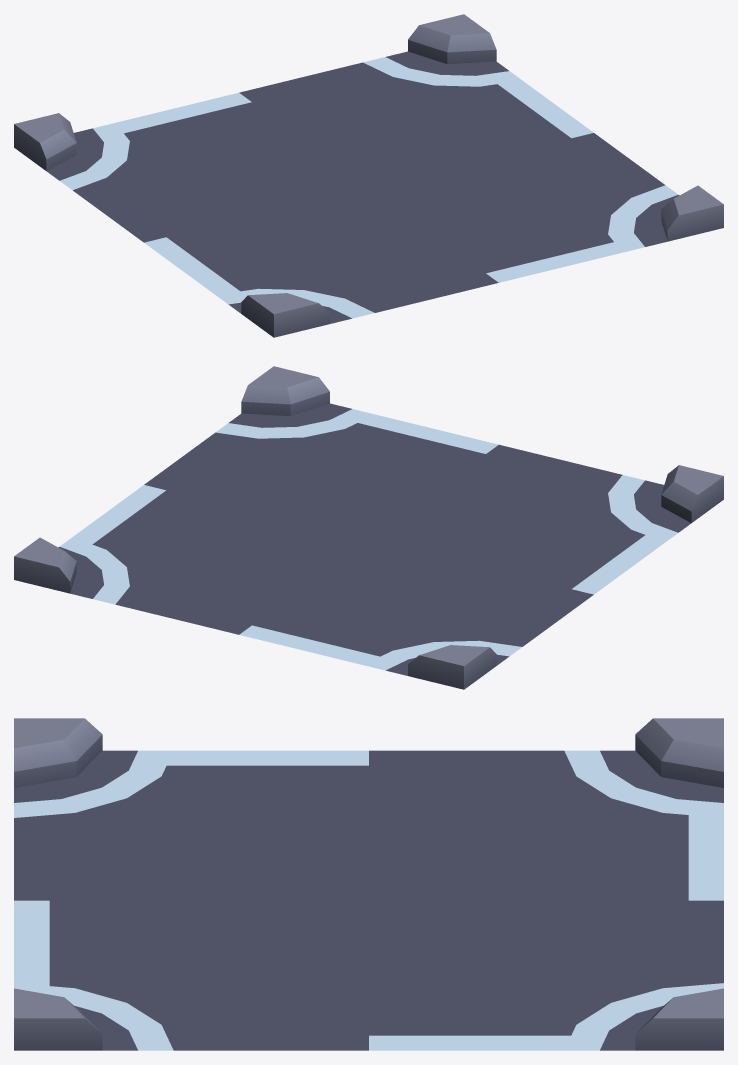
File: road-intersection.glb
The picture shows the model from 3 angles, top to bottom: view 1: azimuth 30°, elevation 25°; view 2: azimuth 150°, elevation 25°; view 3: azimuth 270°, elevation 25°; orthographic projection. The views are drawn at different scales.
Visible parts, largest first — view 1: road-intersection; view 2: road-intersection; view 3: road-intersection.
Part boxes in pixels (x1,y1,x2,y2): road-intersection: [14, 14, 723, 337]; road-intersection: [14, 366, 723, 689]; road-intersection: [14, 718, 723, 1050].
Bounding box in the file's own units: 1 × 0.05 × 1.
Materials: 1 (1 with a texture image).
